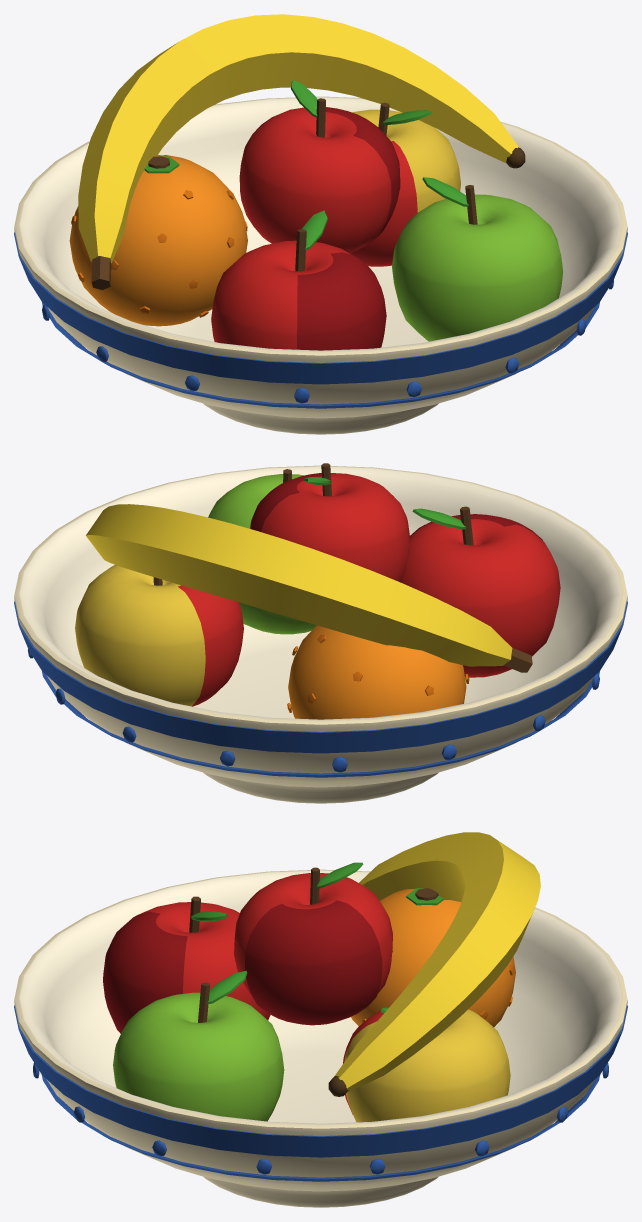
File: fruit_bowl.glb
3 renders of one model, top to bottom at view 1: azimuth 30°, elevation 25°; view 2: azimuth 150°, elevation 25°; view 3: azimuth 270°, elevation 25°, orthographic.
Visible parts, largest first — view 1: FruitBowl; view 2: FruitBowl; view 3: FruitBowl.
Part boxes in pixels (x1=…): FruitBowl: x1=14, y1=14, x2=627, y2=434; FruitBowl: x1=14, y1=463, x2=627, y2=803; FruitBowl: x1=14, y1=832, x2=627, y2=1207.
Size of the model in its own units: 8.95 by 4.72 by 8.95.
